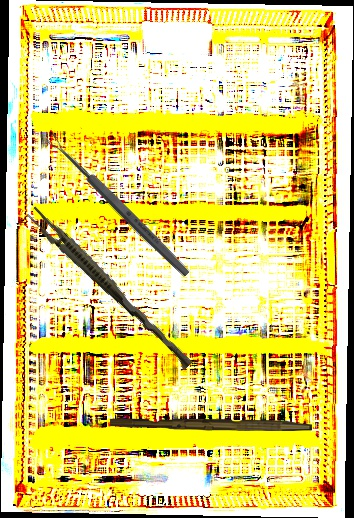Scalpel Handle: (110, 417, 312, 431)
Surgical Spoon: (44, 131, 193, 280)
Tissue Forceps: (22, 204, 199, 371)
